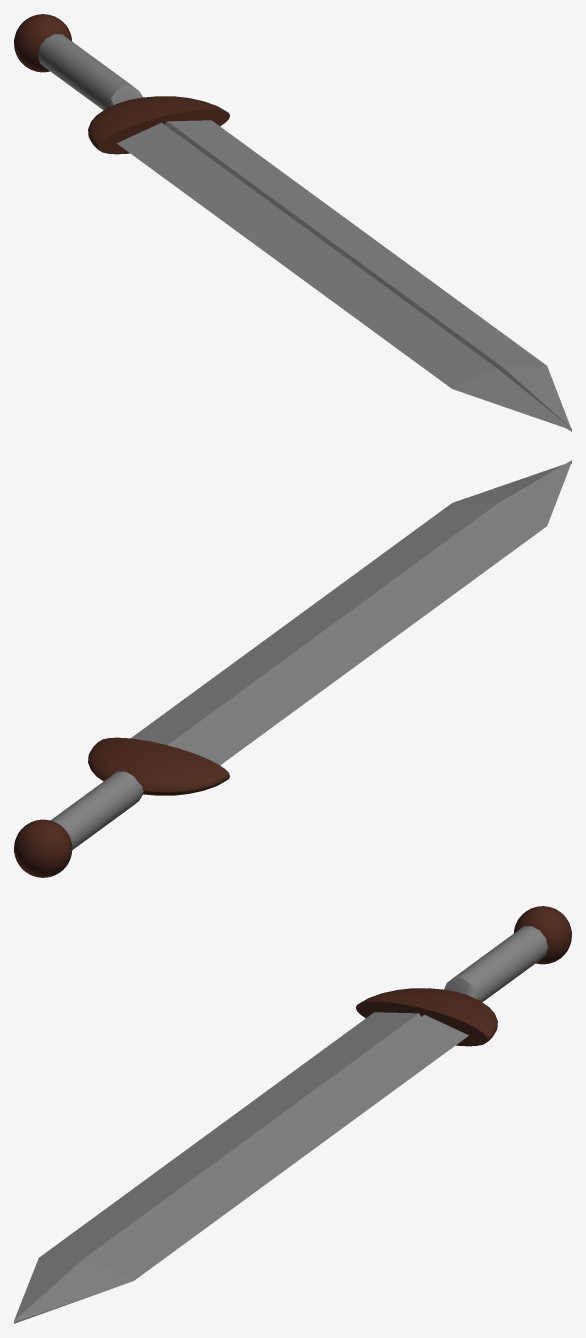
The model's file is Gladius.fbx.
3 renders of one model, top to bottom at view 1: azimuth 30°, elevation 25°; view 2: azimuth 150°, elevation 25°; view 3: azimuth 330°, elevation 25°, orthographic.
Parts seen in each view (by area): view 1: Blade, Crossguard, Hilt, Pommel; view 2: Blade, Crossguard, Hilt, Pommel; view 3: Blade, Crossguard, Hilt, Pommel.
Boxes of the visible parts, x1,y1,x2,y2 form: Blade: (117,120,571,431); Crossguard: (88,96,229,154); Hilt: (37,34,142,110); Pommel: (14,14,72,72); Blade: (130,460,571,765); Crossguard: (88,737,229,795); Hilt: (50,771,143,849); Pommel: (14,819,72,877); Blade: (14,1012,468,1323); Crossguard: (356,988,497,1046); Hilt: (444,926,548,1002); Pommel: (513,906,571,964).
Bounding box in the file's own units: 11.81 × 4.52 × 84.11.
